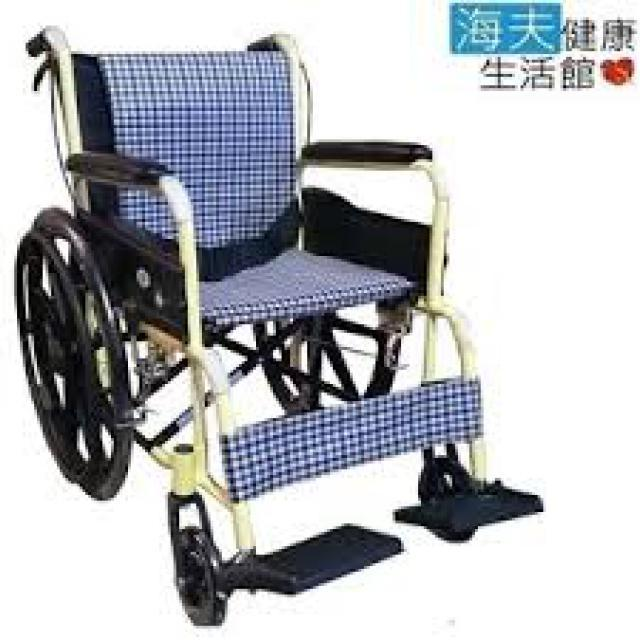wheelchair: (6, 17, 554, 634)
